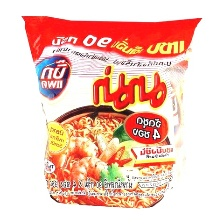snack: (16, 9, 209, 215)
